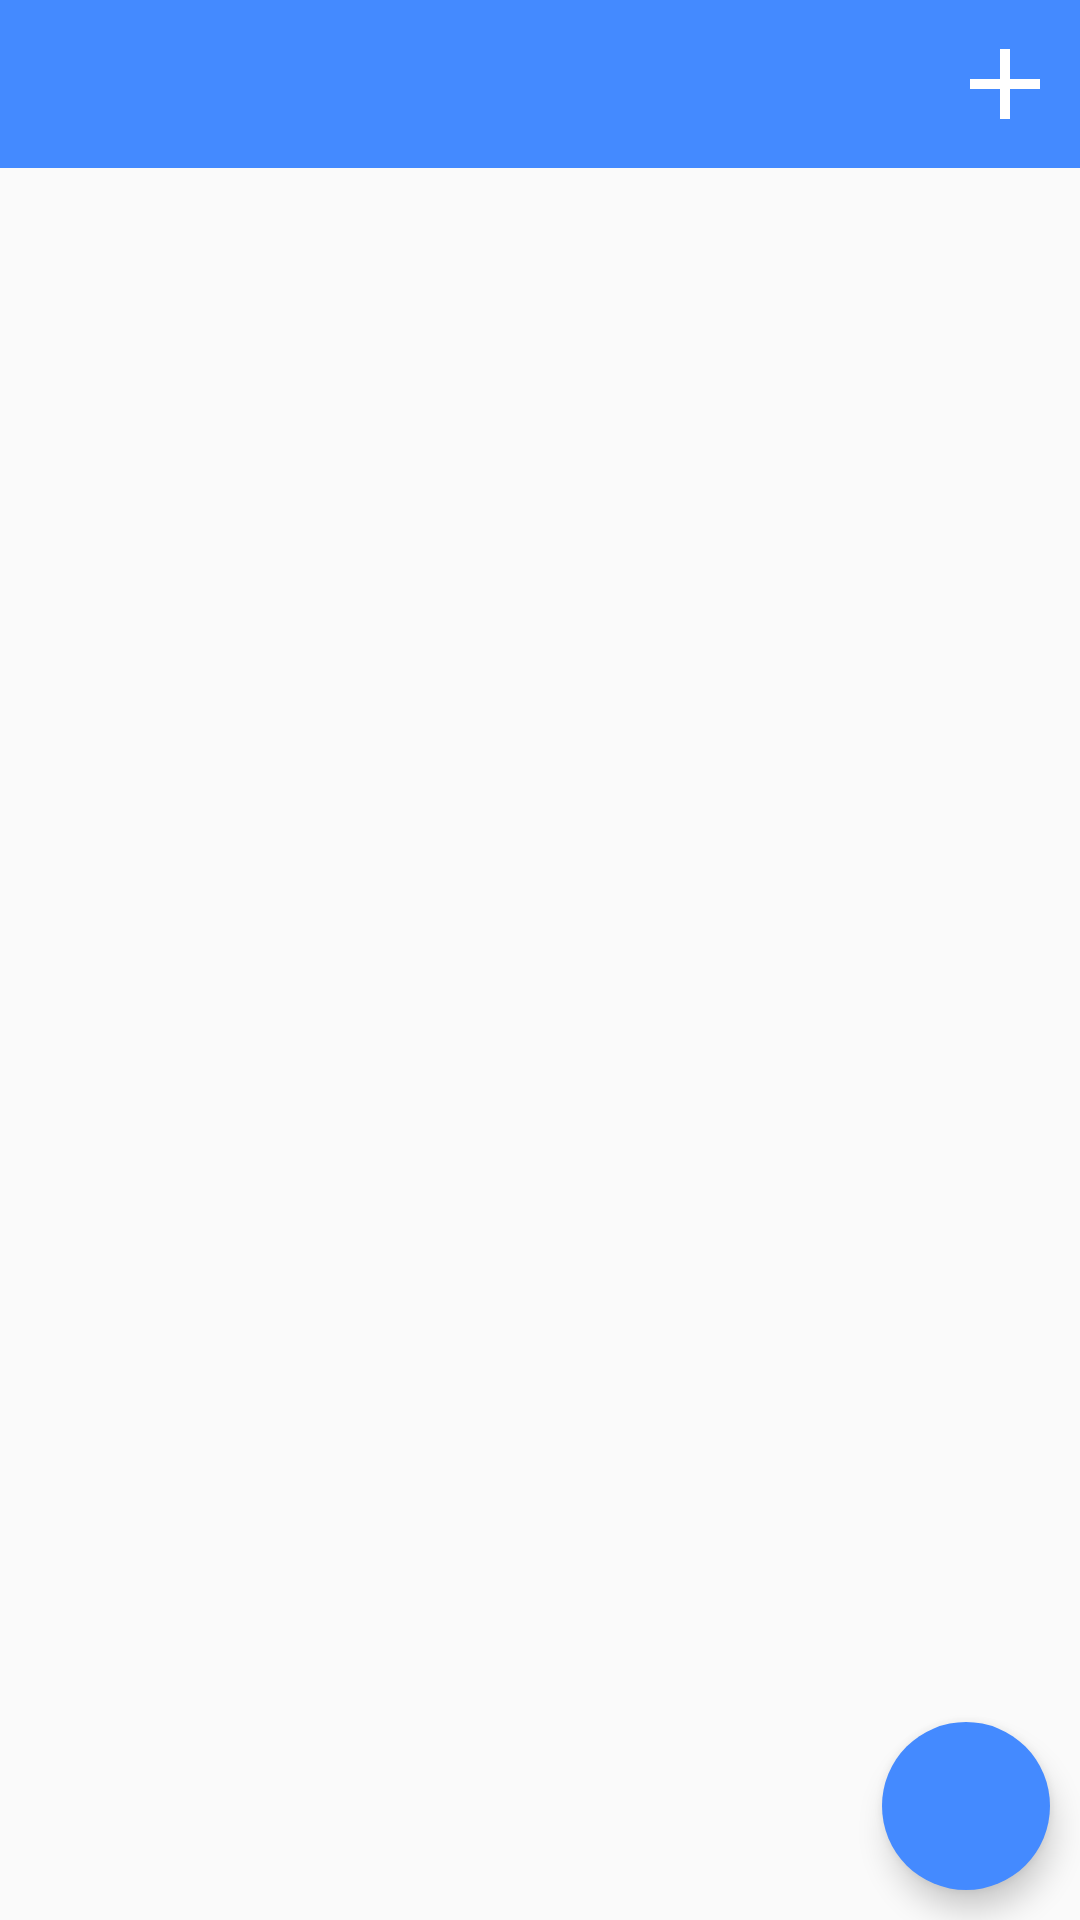

Screen size 1080 × 1920. Icon name, then its center in pixels as [x,y]:
add: [1005,84]
